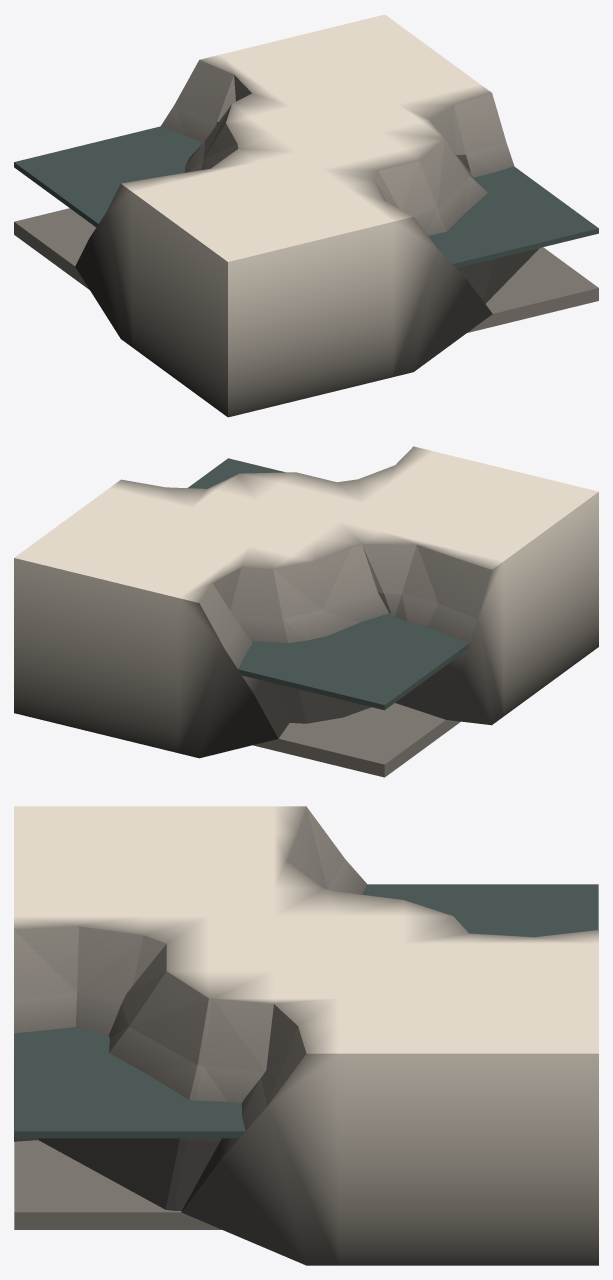
The model's file is SM_VKI_Ground_Stream_OXOX_Q11.fbx.
3 renders of one model, top to bottom at view 1: azimuth 30°, elevation 25°; view 2: azimuth 150°, elevation 25°; view 3: azimuth 270°, elevation 25°, orthographic. The views are drawn at different scales.
Visible parts, largest first — view 1: SM_VKI_Ground_Stream_OXOX_Q11.001; view 2: SM_VKI_Ground_Stream_OXOX_Q11.001; view 3: SM_VKI_Ground_Stream_OXOX_Q11.001.
Part boxes in pixels (box(x1,y1,x2,y2)): SM_VKI_Ground_Stream_OXOX_Q11.001: box(14, 14, 598, 417); SM_VKI_Ground_Stream_OXOX_Q11.001: box(14, 446, 598, 777); SM_VKI_Ground_Stream_OXOX_Q11.001: box(14, 806, 598, 1265).
Bounding box in the file's own units: 1.5 × 0.6 × 1.5.
